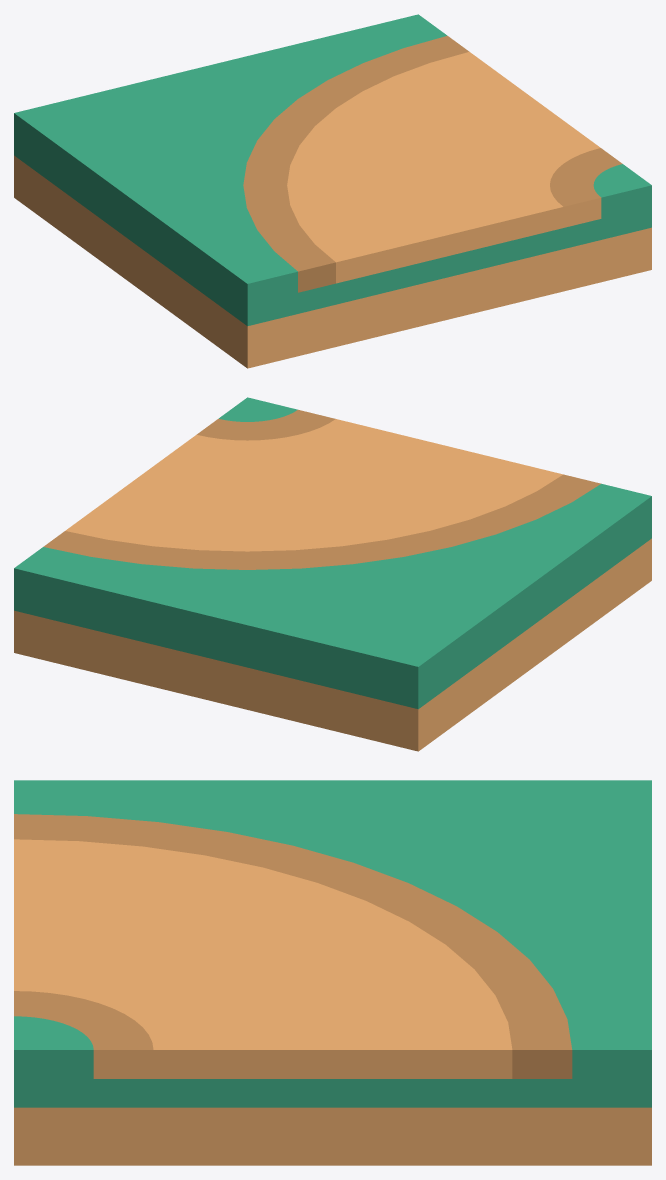
The model's file is tile_cornerRound(+).fbx.
3 views of the same model, one above another, from view 1: azimuth 30°, elevation 25°; view 2: azimuth 150°, elevation 25°; view 3: azimuth 270°, elevation 25° (orthographic). The views are drawn at different scales.
Visible parts, largest first — view 1: Mesh_1; view 2: Mesh_1; view 3: Mesh_1.
Part boxes in pixels (x1,y1,x2,y2): Mesh_1: [14, 14, 651, 368]; Mesh_1: [14, 397, 651, 751]; Mesh_1: [14, 780, 651, 1165].
Bounding box in the file's own units: 100 × 20 × 100.
